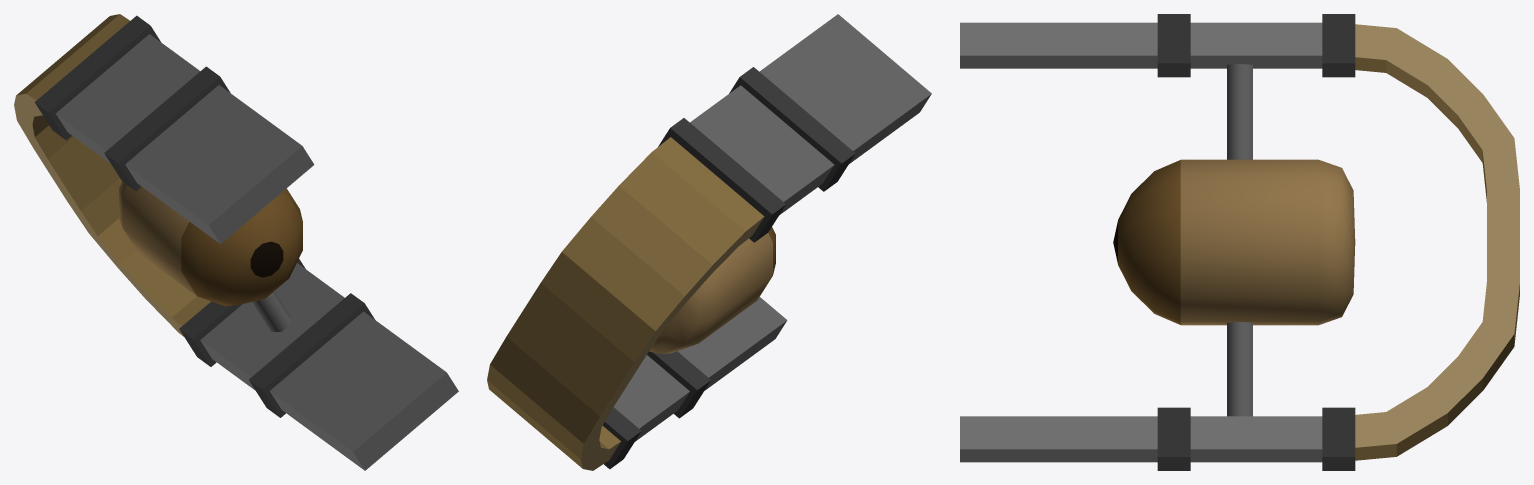
Rendered from newsh2-191-f3.glb.
3 renders of one model, left to right at view 1: azimuth 30°, elevation 25°; view 2: azimuth 150°, elevation 25°; view 3: azimuth 270°, elevation 25°, orthographic. The views are drawn at different scales.
Parts seen in each view (by area): view 1: newsh2-191-f3; view 2: newsh2-191-f3; view 3: newsh2-191-f3.
Part boxes in pixels (x1,y1,x2,y2): newsh2-191-f3: [14, 14, 458, 470]; newsh2-191-f3: [487, 14, 931, 470]; newsh2-191-f3: [960, 14, 1519, 470].
Size of the model in its own units: 0.9161 by 1.18 by 1.42.
